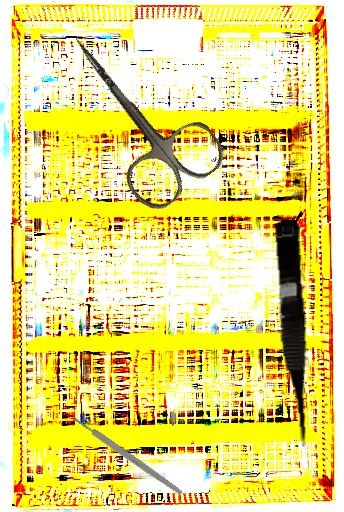Iris Scissors: (38, 7, 232, 219)
Micro Scissor: (270, 219, 315, 450)
Scalpel Handle: (71, 414, 184, 497)
